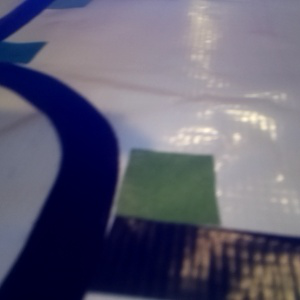top_right: (61, 148, 219, 300), (1, 40, 46, 85)
